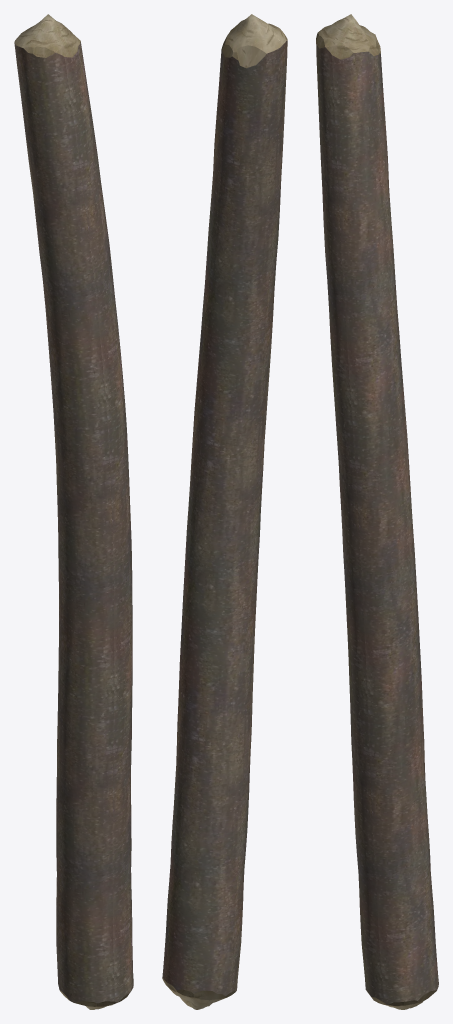
3 renders of one model, left to right at view 1: azimuth 30°, elevation 25°; view 2: azimuth 150°, elevation 25°; view 3: azimuth 330°, elevation 25°, orthographic. The views are drawn at different scales.
Visible parts, largest first — view 1: SM_BM_Ash_Tree_01_tree_quarters_top_LOD0; view 2: SM_BM_Ash_Tree_01_tree_quarters_top_LOD0; view 3: SM_BM_Ash_Tree_01_tree_quarters_top_LOD0.
Boxes of the visible parts, left/top/right/bottom form: SM_BM_Ash_Tree_01_tree_quarters_top_LOD0: left=14, top=14, right=133, bottom=1009; SM_BM_Ash_Tree_01_tree_quarters_top_LOD0: left=162, top=14, right=287, bottom=1009; SM_BM_Ash_Tree_01_tree_quarters_top_LOD0: left=316, top=14, right=438, bottom=1009.
Bounding box in the file's own units: 0.8063 × 6.88 × 0.6161.
1 material, 1 textured.
